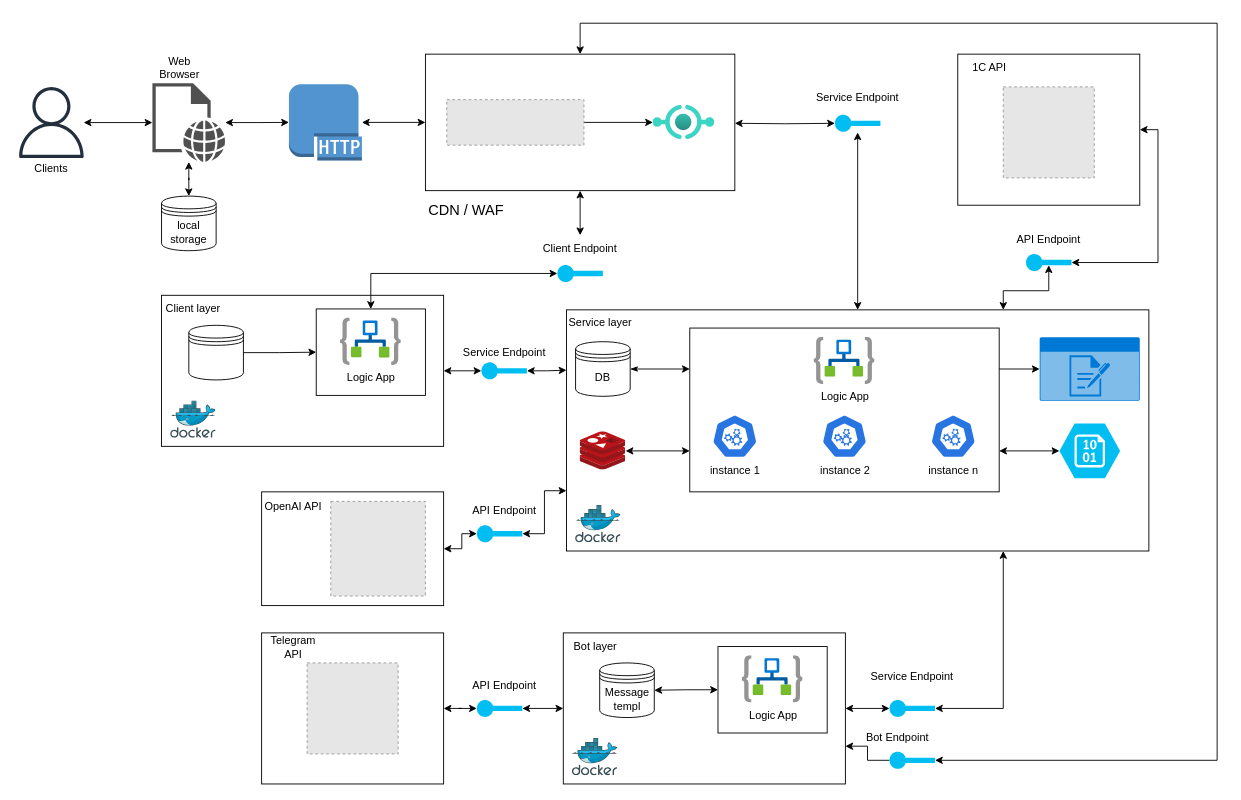
Image size: 1241x800. Some labels were removed from this diagram. Grey dashed boxes stand in for pictures. The shapes that lost their labels are listed below. From the top down, each one's box as (x1, y1, x2, y2) in pixels, then its label:
(652, 91, 714, 153): API Gateway
(188, 324, 243, 380): Static data
(1039, 337, 1139, 400): Log
(580, 431, 625, 470): Redis
(1059, 423, 1120, 478): Storage Blod
